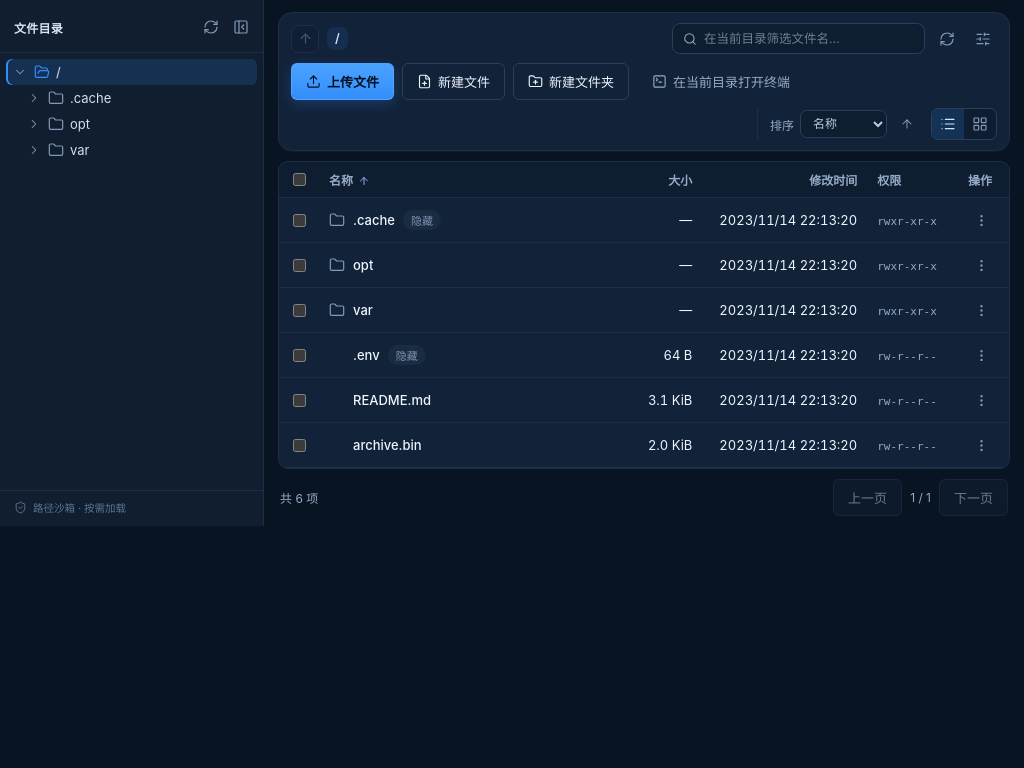
FileWorkspace › never reports a failed delete as success
Click the checkbox named "选择 README.md": coordinates (300, 400) [293,394,306,406]
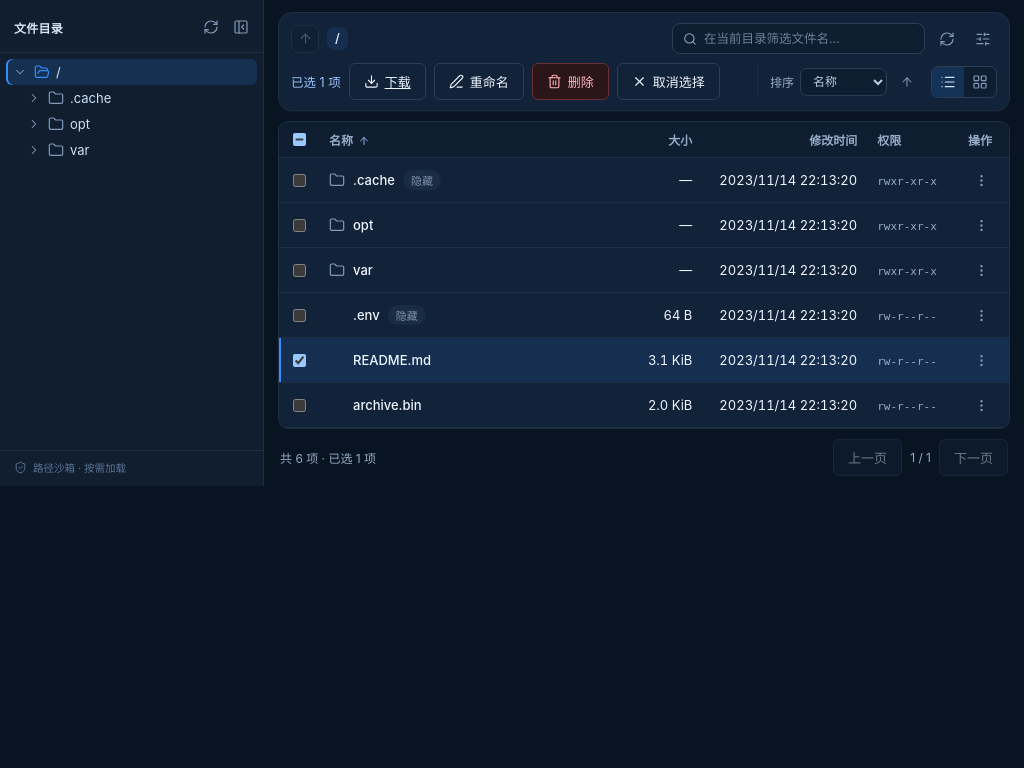
Click the button "删除": coordinates (570, 82) [532,63,609,100]
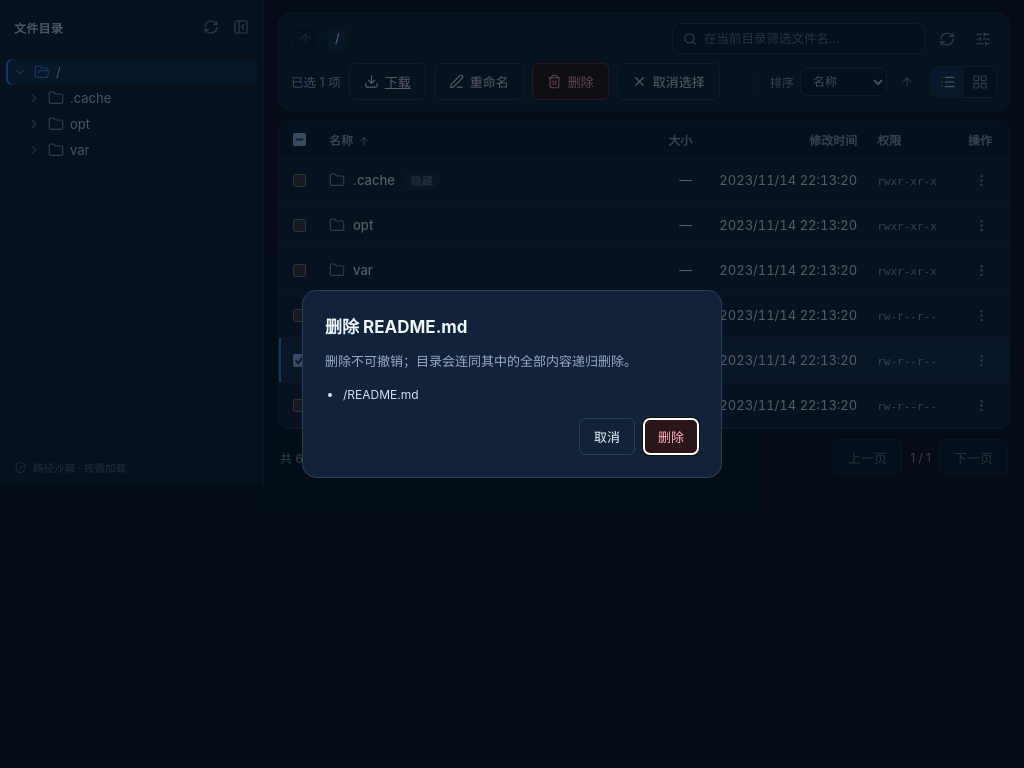
Click the button with class "danger" showing "删除": coordinates (671, 436) [643,418,699,455]
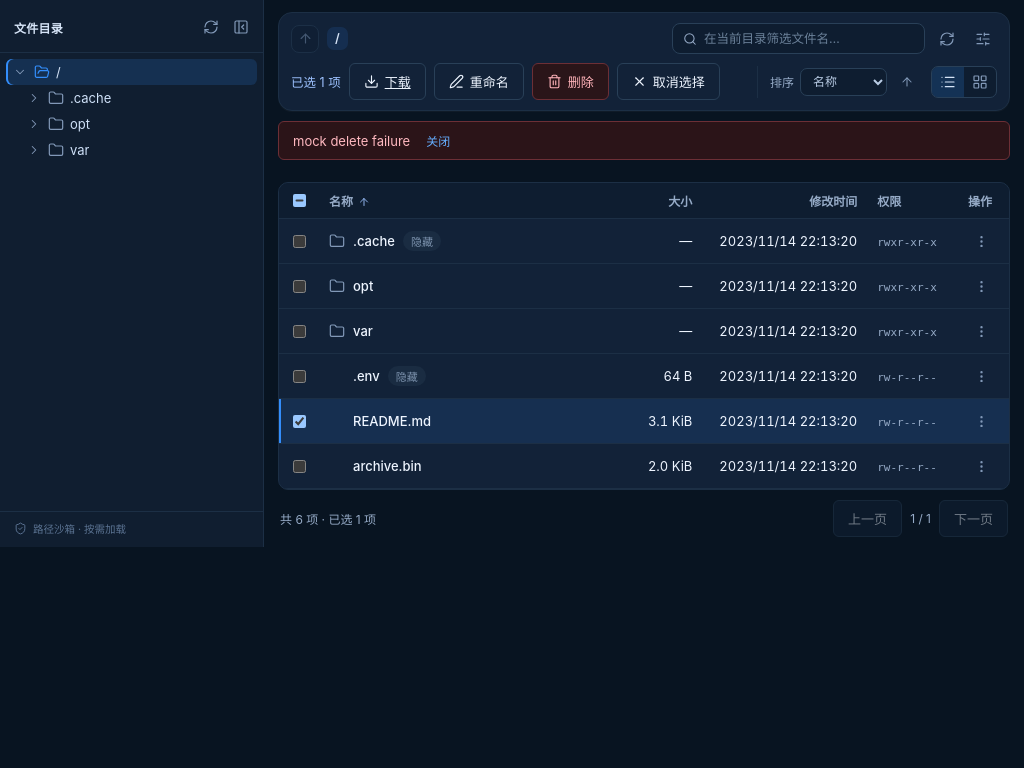
Now the text "mock delete failure" is shown, box [293,132,410,148]
